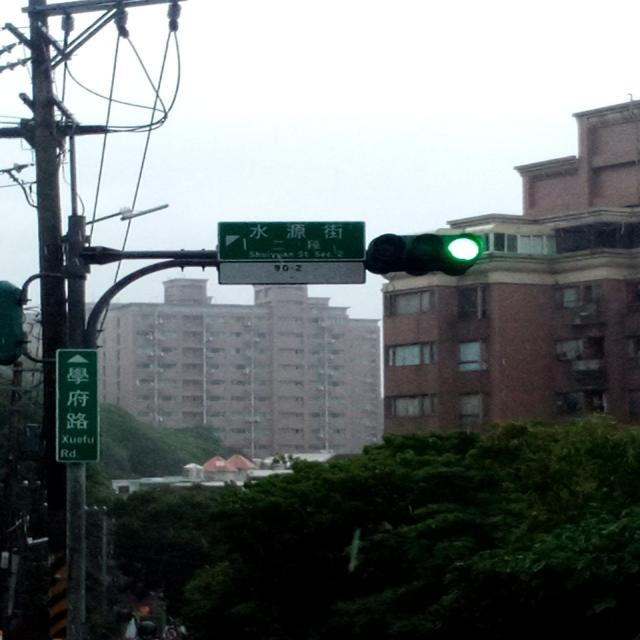green light: (372, 232, 484, 274)
